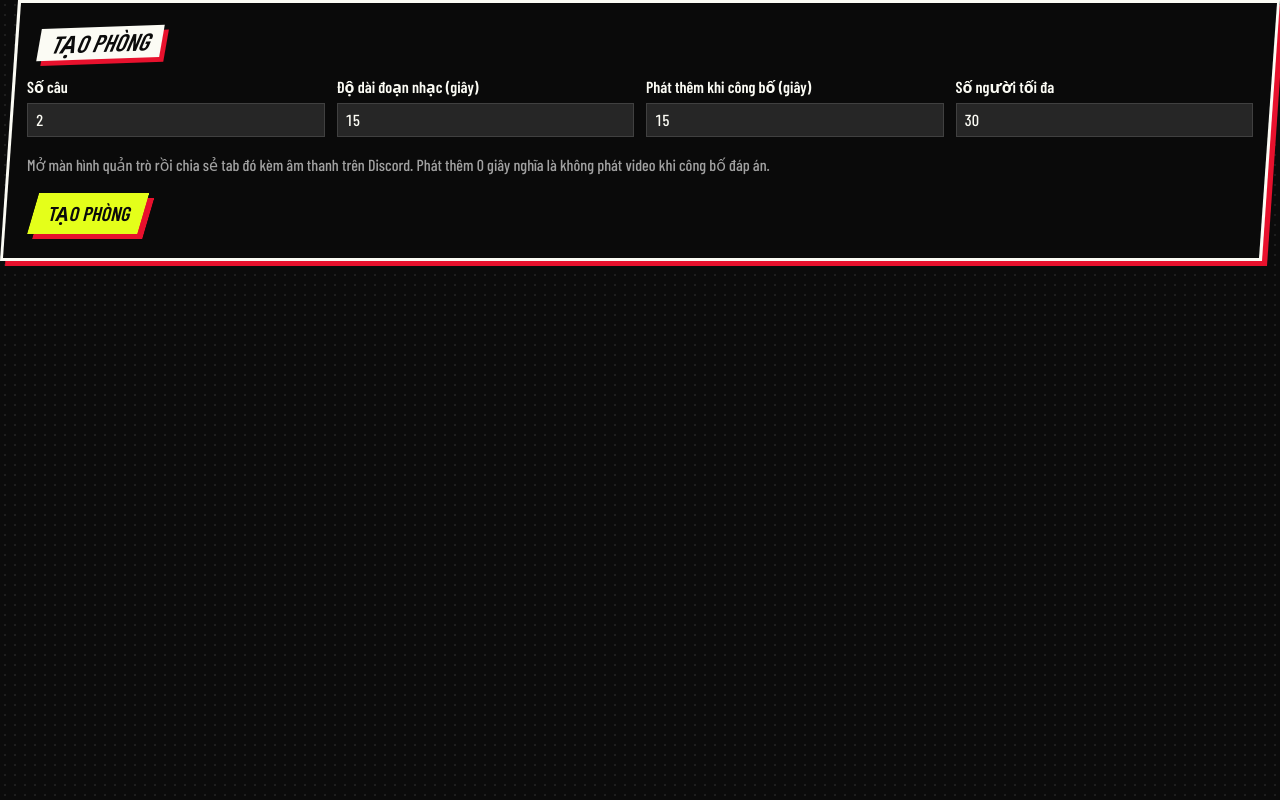
it: CreateRoomPanel › shows the server error and lets the host retry
Click the button "Tạo phòng".
click(88, 214)  # box top-left (27, 193), bottom-right (149, 234)
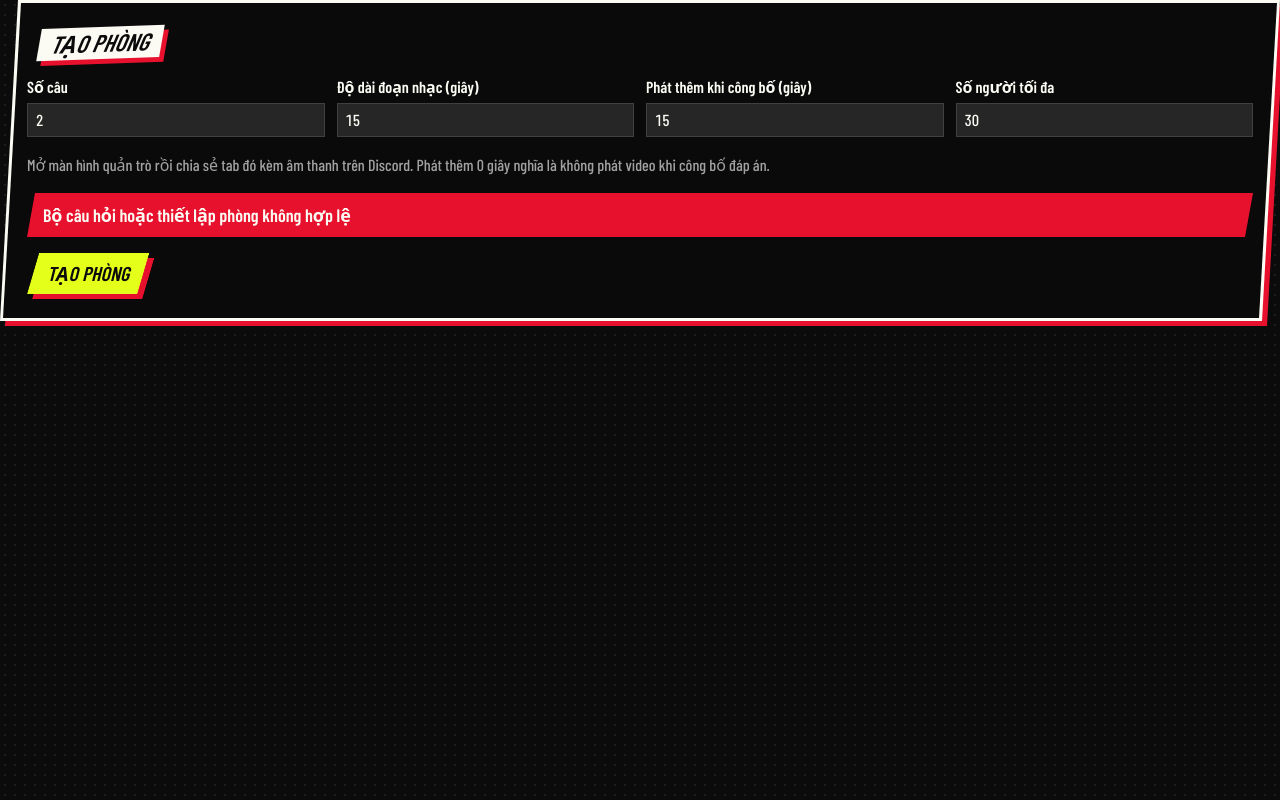
Check: the button "Tạo phòng" is enabled, box top-left (27, 253), bottom-right (149, 294)
Check: the message reads "Bộ câu hỏi hoặc thiết lập phòng không hợp lệ", box top-left (43, 204), bottom-right (351, 226)
